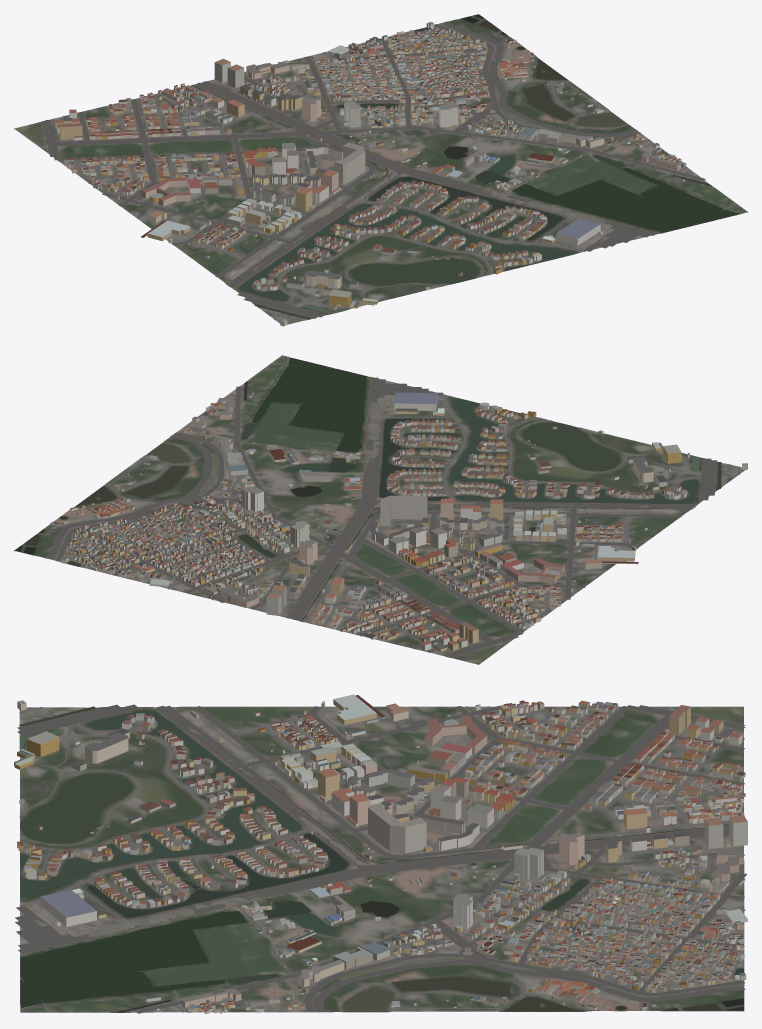
3 views of the same model, one above another, from view 1: azimuth 30°, elevation 25°; view 2: azimuth 150°, elevation 25°; view 3: azimuth 270°, elevation 25° (orthographic). The views are drawn at different scales.
Parts seen in each view (by area): view 1: ground, buildings, roads, water; view 2: ground, buildings, roads, water; view 3: ground, buildings, roads, water.
Part boxes in pixels (left/top/right/bottom): ground: left=14, top=15, right=747, bottom=324; buildings: left=55, top=22, right=694, bottom=326; roads: left=42, top=21, right=741, bottom=323; water: left=192, top=14, right=744, bottom=319; ground: left=14, top=355, right=744, bottom=664; buildings: left=50, top=391, right=747, bottom=651; roads: left=45, top=356, right=743, bottom=657; water: left=15, top=356, right=721, bottom=621; ground: left=19, top=706, right=744, bottom=1012; buildings: left=14, top=694, right=747, bottom=1013; roads: left=15, top=704, right=746, bottom=1013; water: left=19, top=706, right=743, bottom=1012.
Bounding box in the file's own units: 1458 × 61.38 × 1421.
